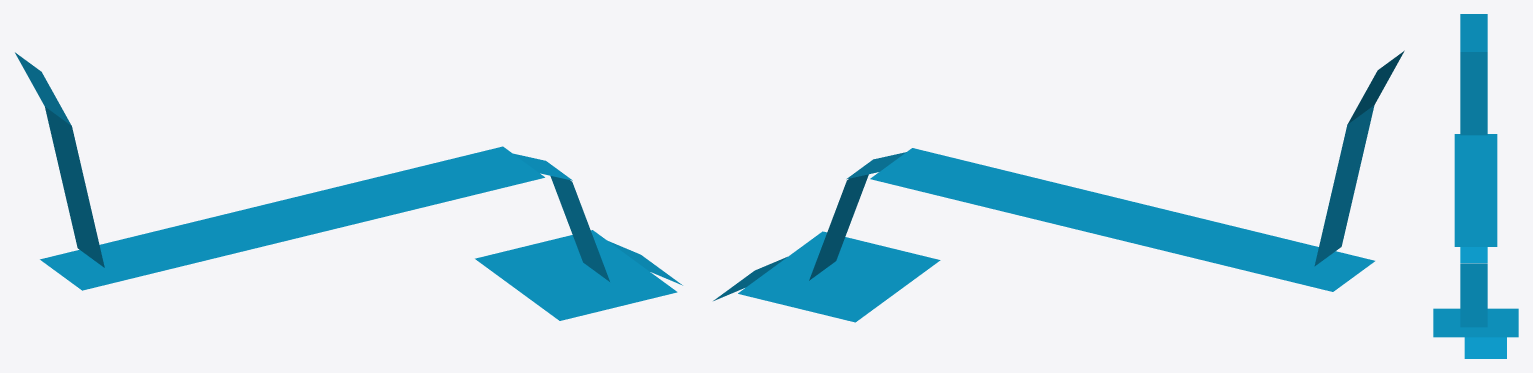
File: water_rough.fbx
The picture shows the model from 3 angles, left to right: view 1: azimuth 30°, elevation 25°; view 2: azimuth 150°, elevation 25°; view 3: azimuth 270°, elevation 25°; orthographic projection. The views are drawn at different scales.
Parts seen in each view (by area): view 1: Plane__2_, Plane__5_, Plane__1_, Plane__4_, Plane; view 2: Plane__2_, Plane__5_, Plane__1_, Plane__4_, Plane; view 3: Plane__2_, Plane__1_, Plane__5_, Plane__4_, Plane, Plane__7_, Plane__3_.
Boxes of the visible parts, x1,y1,x2,y2 form: Plane__2_: [40, 146, 544, 290]; Plane__5_: [475, 230, 677, 320]; Plane__1_: [45, 107, 104, 267]; Plane__4_: [550, 176, 609, 281]; Plane: [15, 52, 71, 125]; Plane__2_: [870, 148, 1374, 291]; Plane__5_: [738, 231, 940, 322]; Plane__1_: [1314, 105, 1374, 266]; Plane__4_: [809, 174, 868, 280]; Plane: [1347, 50, 1404, 124]; Plane__2_: [1454, 134, 1497, 246]; Plane__1_: [1460, 52, 1487, 135]; Plane__5_: [1433, 308, 1518, 337]; Plane__4_: [1460, 263, 1487, 327]; Plane: [1460, 14, 1487, 51]; Plane__7_: [1464, 337, 1506, 358]; Plane__3_: [1460, 247, 1487, 262].
Size of the model in its own units: 4378 by 2427 by 1000.
